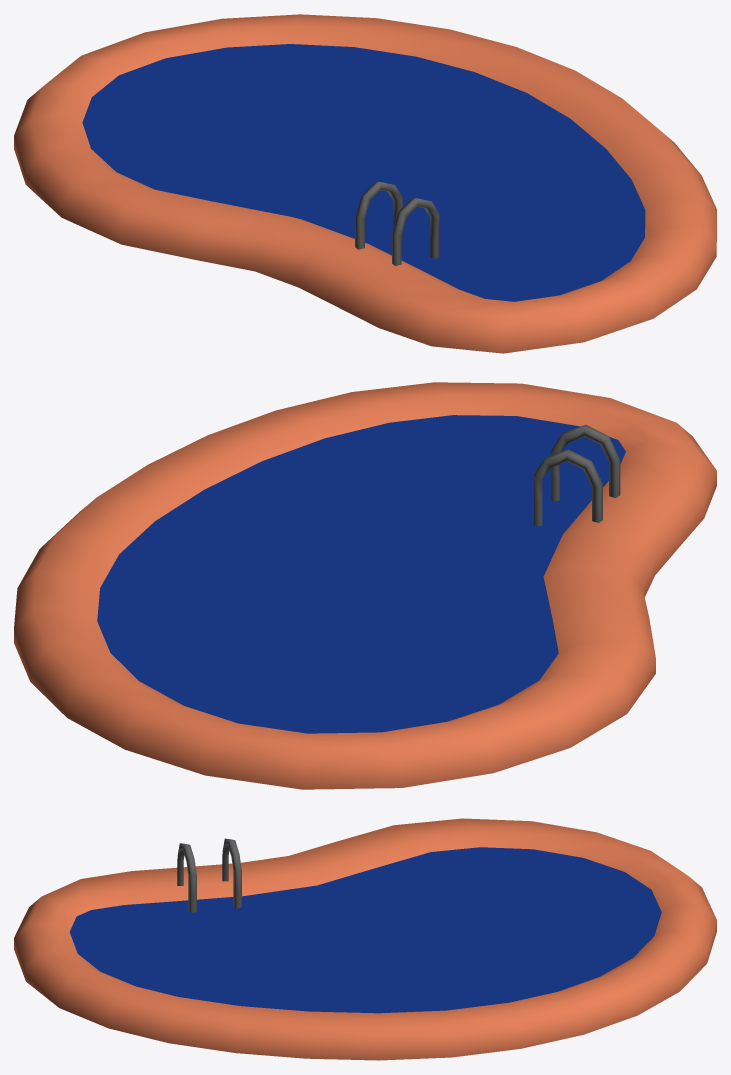
Rendered from Pool_01.FBX.
3 views of the same model, one above another, from view 1: azimuth 30°, elevation 25°; view 2: azimuth 150°, elevation 25°; view 3: azimuth 270°, elevation 25° (orthographic). The views are drawn at different scales.
Visible parts, largest first — view 1: Circle001; view 2: Circle001; view 3: Circle001.
Boxes of the visible parts, box(x1,y1,x2,y2) form: Circle001: box(14, 14, 716, 353); Circle001: box(14, 382, 716, 789); Circle001: box(14, 818, 716, 1060).
Size of the model in its own units: 1192 by 191 by 1589.
